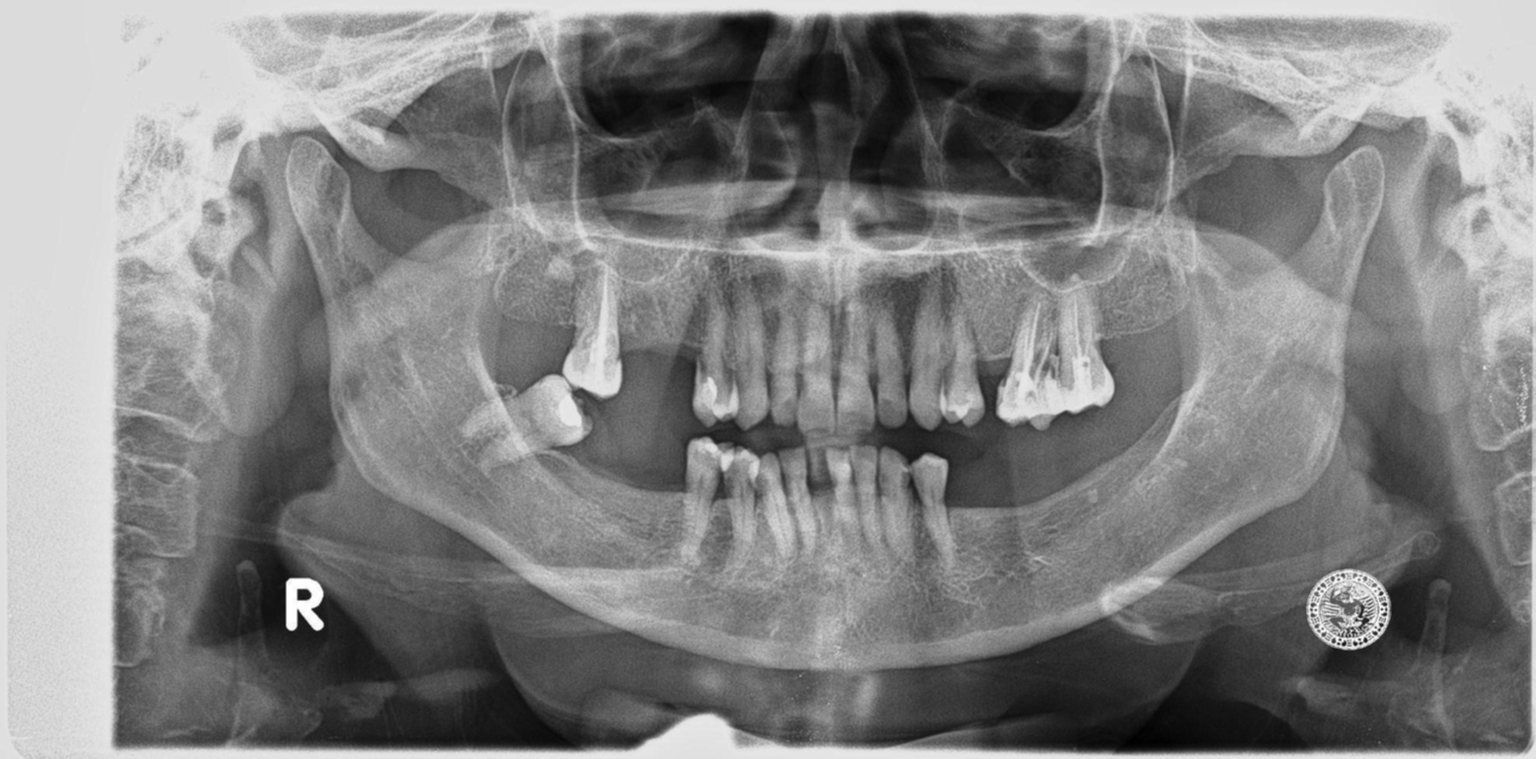Individual Tooth: (459, 374, 592, 469), (996, 294, 1063, 428), (562, 265, 623, 398), (1057, 285, 1114, 414), (692, 276, 739, 427), (937, 296, 985, 425), (683, 436, 737, 547), (796, 300, 837, 445), (909, 275, 946, 429), (837, 296, 874, 445), (908, 453, 956, 567), (806, 435, 845, 568), (747, 452, 795, 559), (734, 282, 769, 428), (721, 448, 762, 567), (777, 445, 817, 563), (826, 446, 864, 560), (874, 303, 908, 428), (847, 446, 883, 550), (769, 300, 798, 427), (876, 449, 911, 553)
